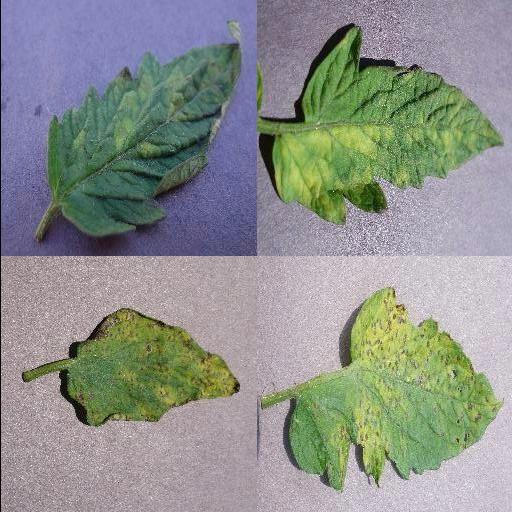Leaf Mold: (270, 26, 504, 226), (46, 44, 242, 240)
Septoria: (288, 285, 502, 492), (63, 310, 239, 428)
